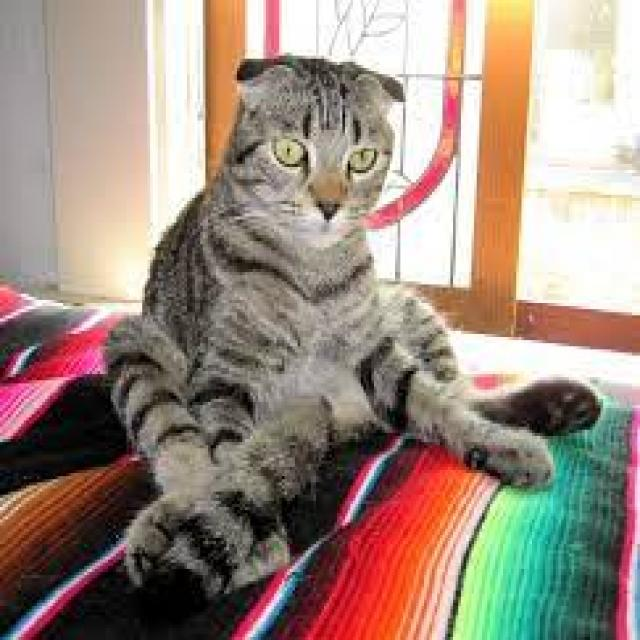cat-face: (167, 36, 474, 311)
